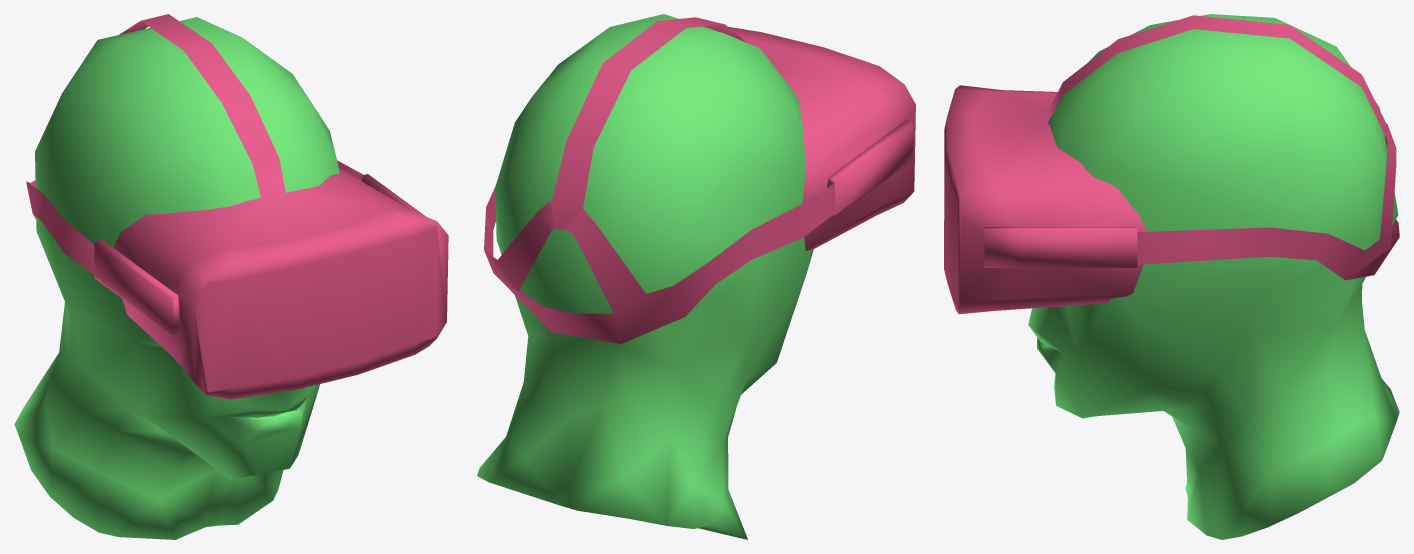
File: head_with_headset.fbx
The picture shows the model from 3 angles, left to right: view 1: azimuth 30°, elevation 25°; view 2: azimuth 150°, elevation 25°; view 3: azimuth 270°, elevation 25°; orthographic projection. The views are drawn at different scales.
Parts seen in each view (by area): view 1: avahead.002; view 2: avahead.002; view 3: avahead.002.
Boxes of the visible parts, x1,y1,x2,y2 form: avahead.002: (14,14,448,539); avahead.002: (477,14,915,539); avahead.002: (944,14,1399,539).
Size of the model in its own units: 161 by 271 by 233.
